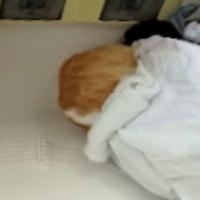asleep: (56, 42, 139, 132)
